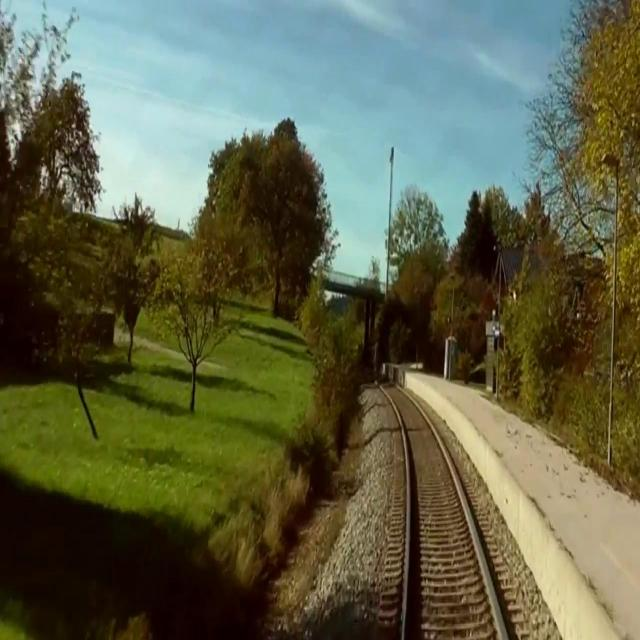rail-track: (377, 377, 502, 639)
